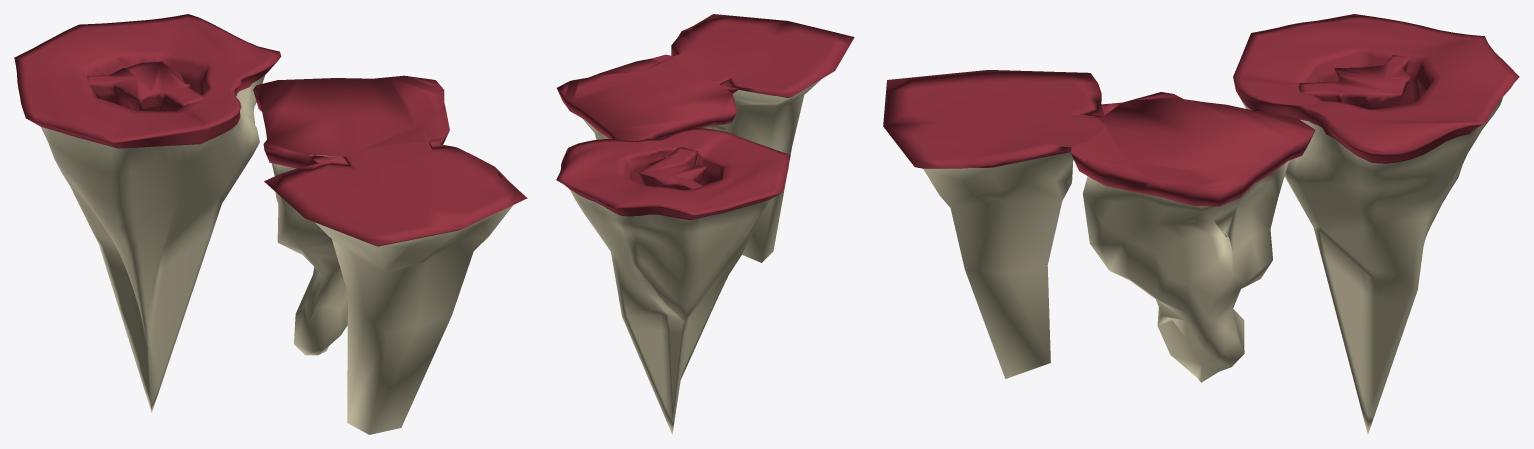
The model's file is ILE 5.fbx.
3 renders of one model, left to right at view 1: azimuth 30°, elevation 25°; view 2: azimuth 150°, elevation 25°; view 3: azimuth 270°, elevation 25°, orthographic. The views are drawn at different scales.
Visible parts, largest first — view 1: Cube.001, Cube; view 2: Cube, Cube.001; view 3: Cube.001, Cube.
Boxes of the visible parts, x1=… form: Cube.001: x1=253, y1=75, x2=527, y2=434; Cube: x1=14, y1=14, x2=281, y2=412; Cube: x1=556, y1=128, x2=790, y2=434; Cube.001: x1=557, y1=14, x2=854, y2=262; Cube.001: x1=883, y1=70, x2=1315, y2=382; Cube: x1=1233, y1=14, x2=1519, y2=434.
Bounding box in the file's own units: 551 × 520 × 825.
